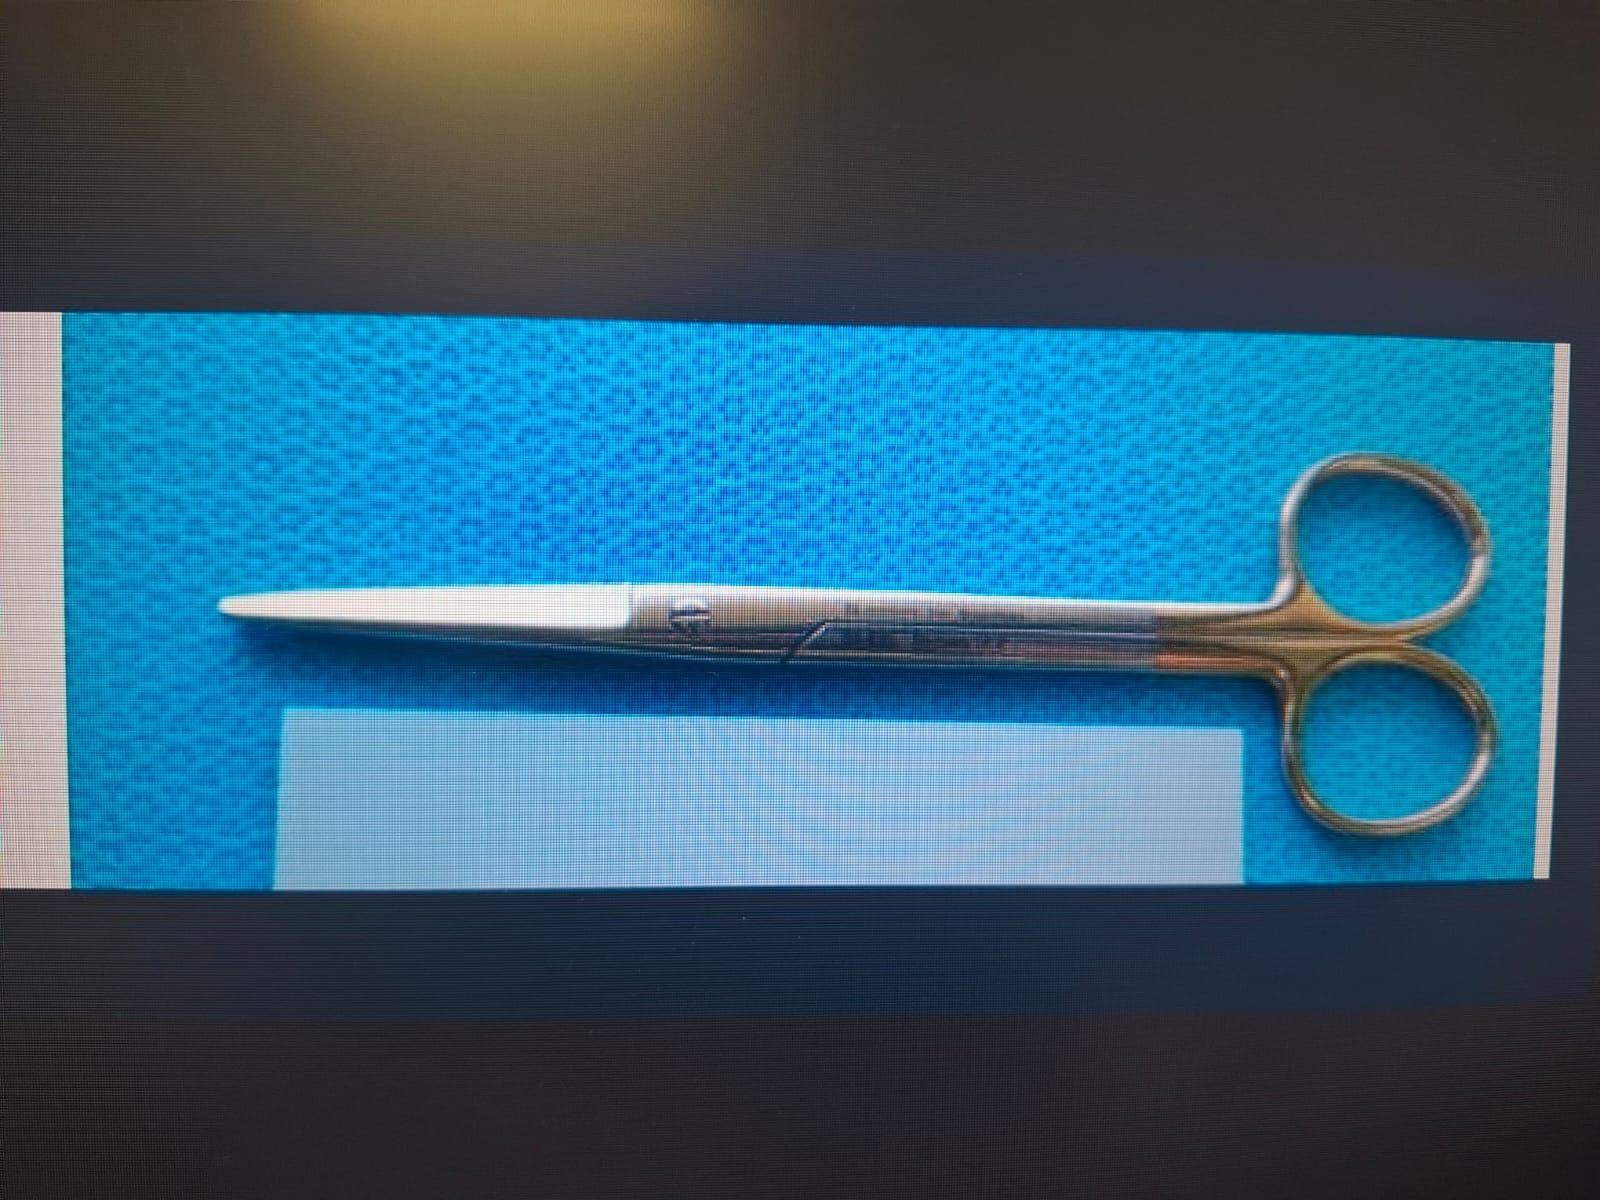Straight Mayo: (218, 432, 1504, 846)
